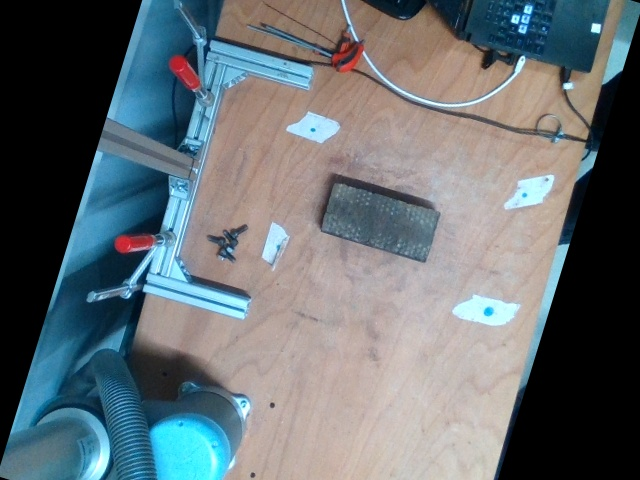brick: (321, 182, 441, 261)
